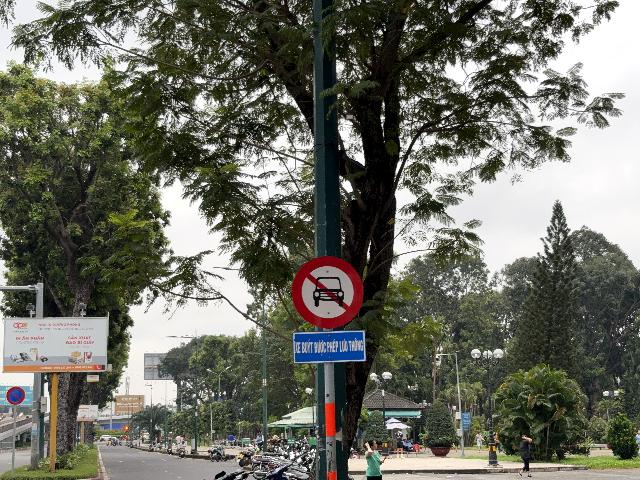cam-o-to: (291, 257, 363, 329)
